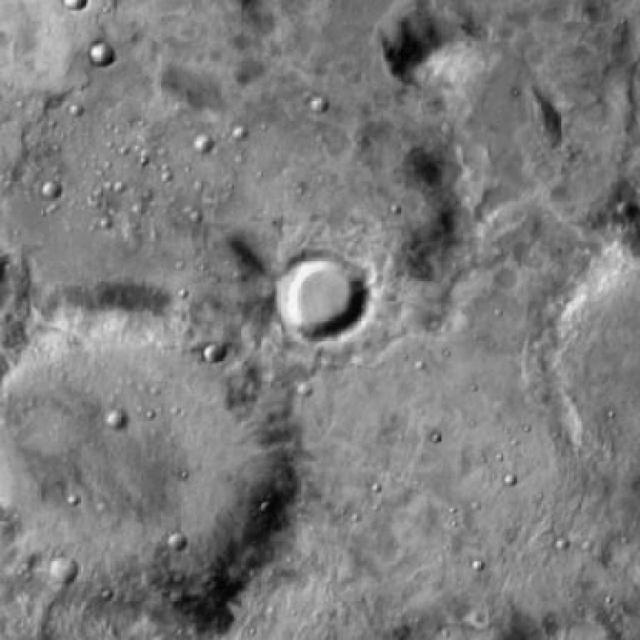crater: (0, 306, 283, 614), (275, 260, 363, 338), (48, 556, 78, 582), (90, 44, 113, 65), (203, 344, 223, 362), (168, 532, 187, 550), (44, 180, 62, 198), (108, 413, 127, 430), (312, 96, 330, 112), (194, 137, 211, 152), (632, 10, 640, 27)
